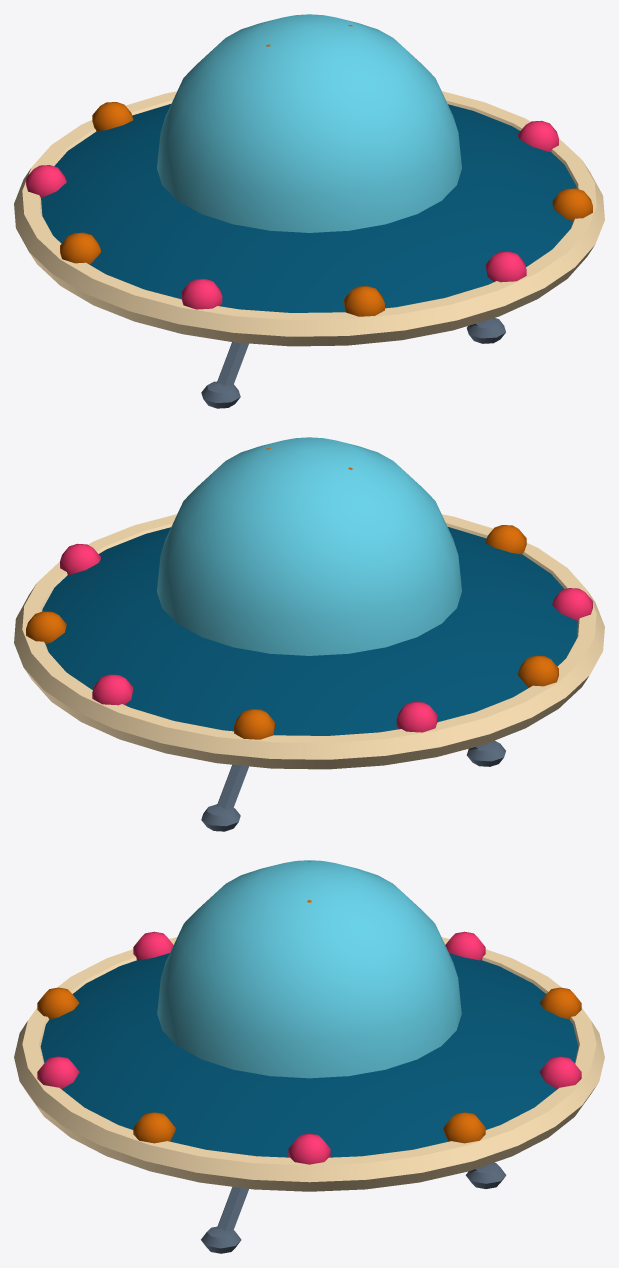
File: Ufo.obj
3 renders of one model, top to bottom at view 1: azimuth 30°, elevation 25°; view 2: azimuth 150°, elevation 25°; view 3: azimuth 270°, elevation 25°, orthographic.
Visible parts, largest first — view 1: Ufo; view 2: Ufo; view 3: Ufo.
Part boxes in pixels (x1=…): Ufo: x1=14, y1=14, x2=604, y2=408; Ufo: x1=14, y1=437, x2=604, y2=831; Ufo: x1=14, y1=860, x2=604, y2=1253.
Size of the model in its own units: 3.18 by 1.86 by 3.18.
